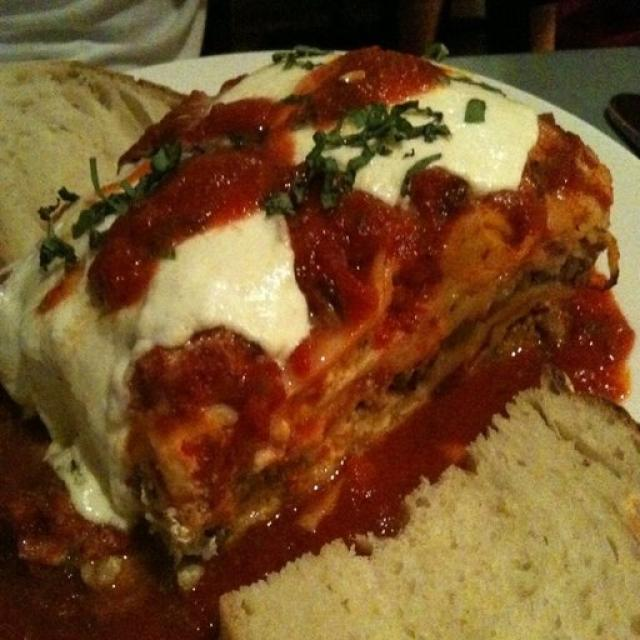Lasagna: (68, 68, 609, 503)
